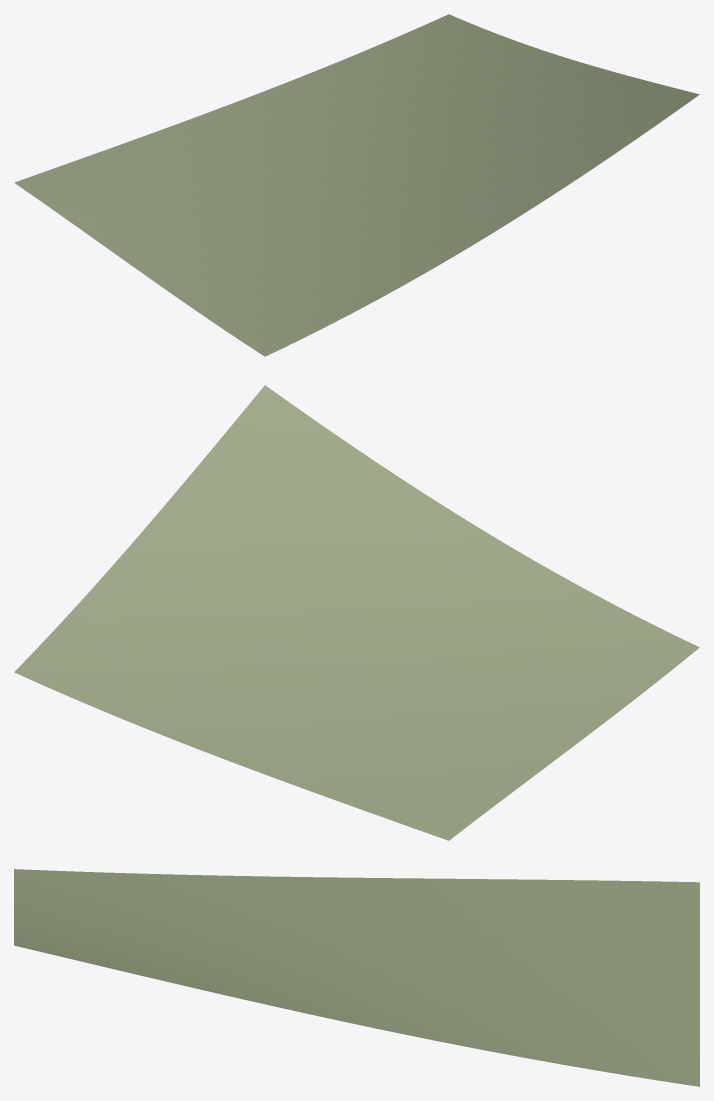
File: alpine-4-4.glb
3 views of the same model, one above another, from view 1: azimuth 30°, elevation 25°; view 2: azimuth 150°, elevation 25°; view 3: azimuth 270°, elevation 25° (orthographic). The views are drawn at different scales.
Parts seen in each view (by area): view 1: alpine-4-4; view 2: alpine-4-4; view 3: alpine-4-4.
Part boxes in pixels (x1,y1,x2,y2): alpine-4-4: (14,14,699,356); alpine-4-4: (14,385,699,840); alpine-4-4: (14,869,699,1086).
Bounding box in the file's own units: 256 × 93.31 × 256.
